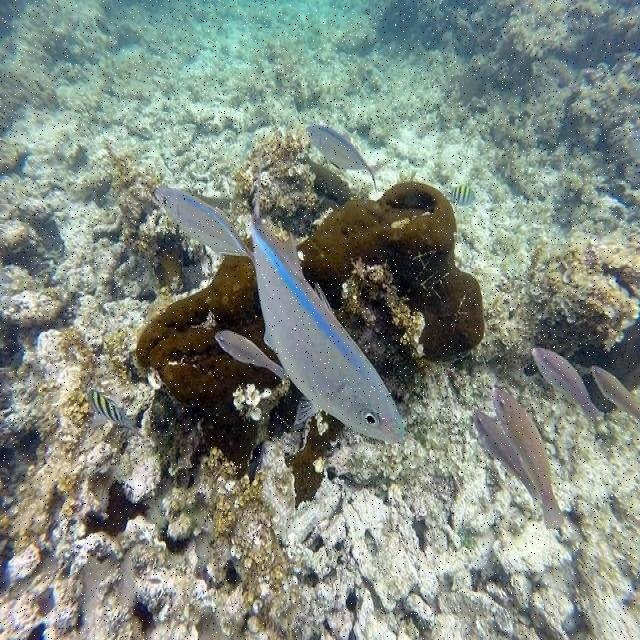fish: (250, 154, 404, 443), (492, 388, 564, 530), (155, 183, 254, 261), (472, 408, 542, 507), (306, 125, 388, 198), (533, 348, 603, 423), (215, 330, 287, 381), (87, 388, 145, 439), (591, 367, 639, 423), (439, 185, 476, 206)
reefs: (137, 181, 485, 400)
